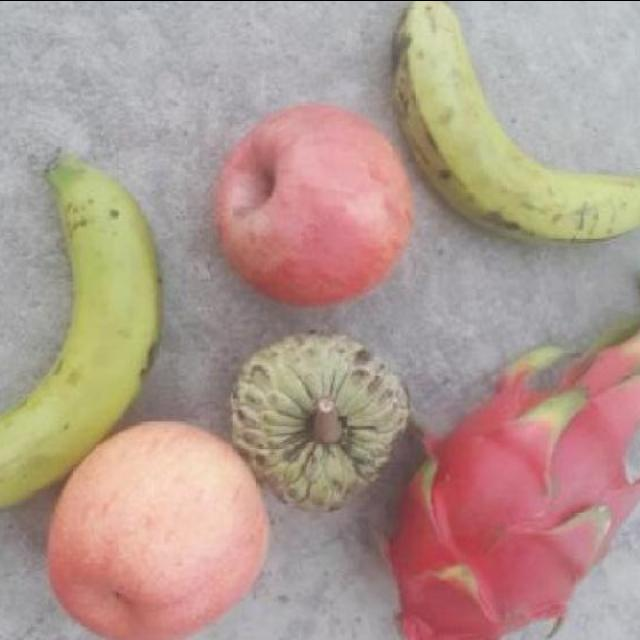apple: (46, 419, 268, 640), (208, 90, 415, 308)
banana: (0, 150, 172, 515), (391, 0, 640, 247)
dragon fruit: (389, 390, 637, 640)
sugar apple: (218, 326, 420, 511)
